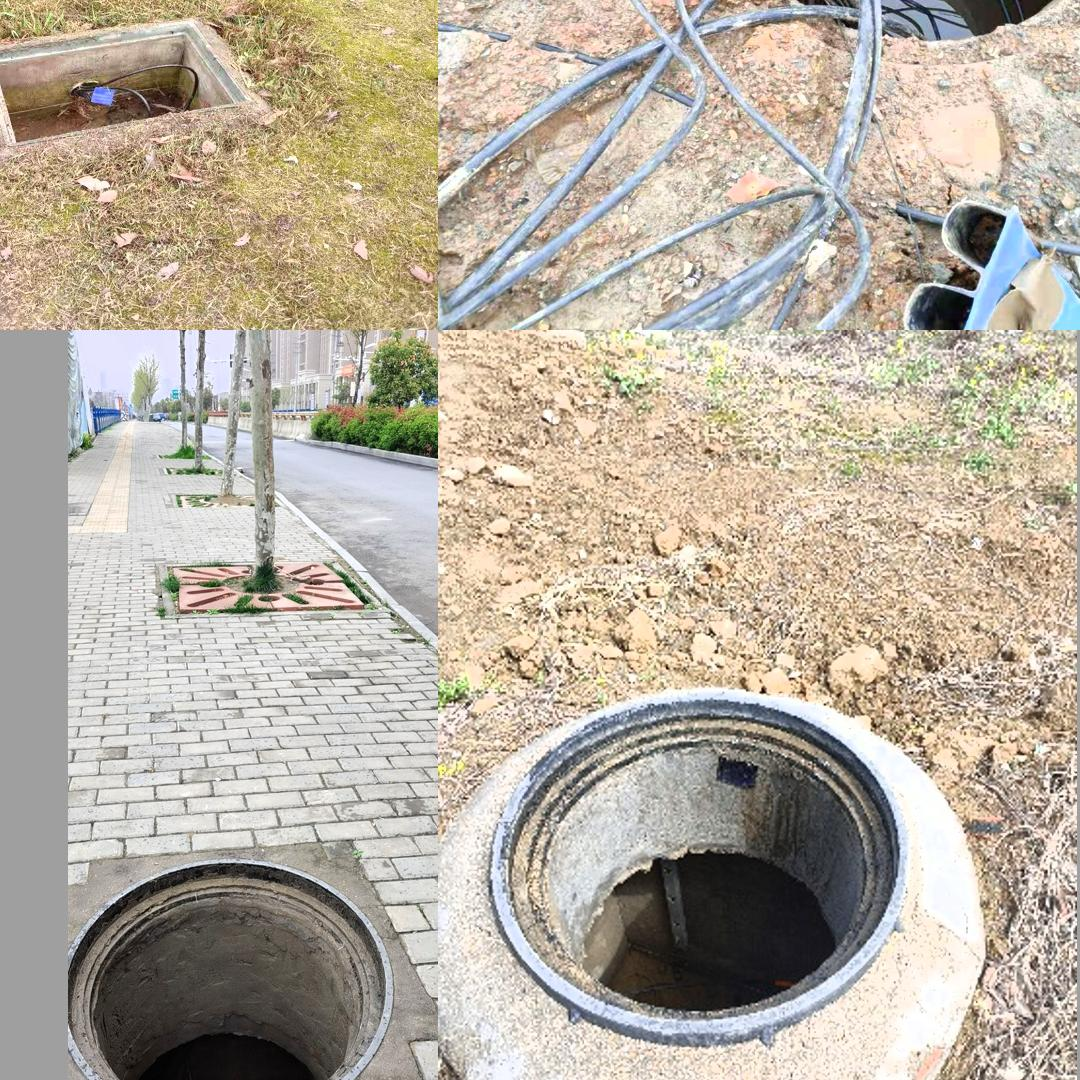lose: (490, 689, 907, 1049), (68, 857, 394, 1080), (0, 16, 250, 153), (695, 0, 1080, 77)
